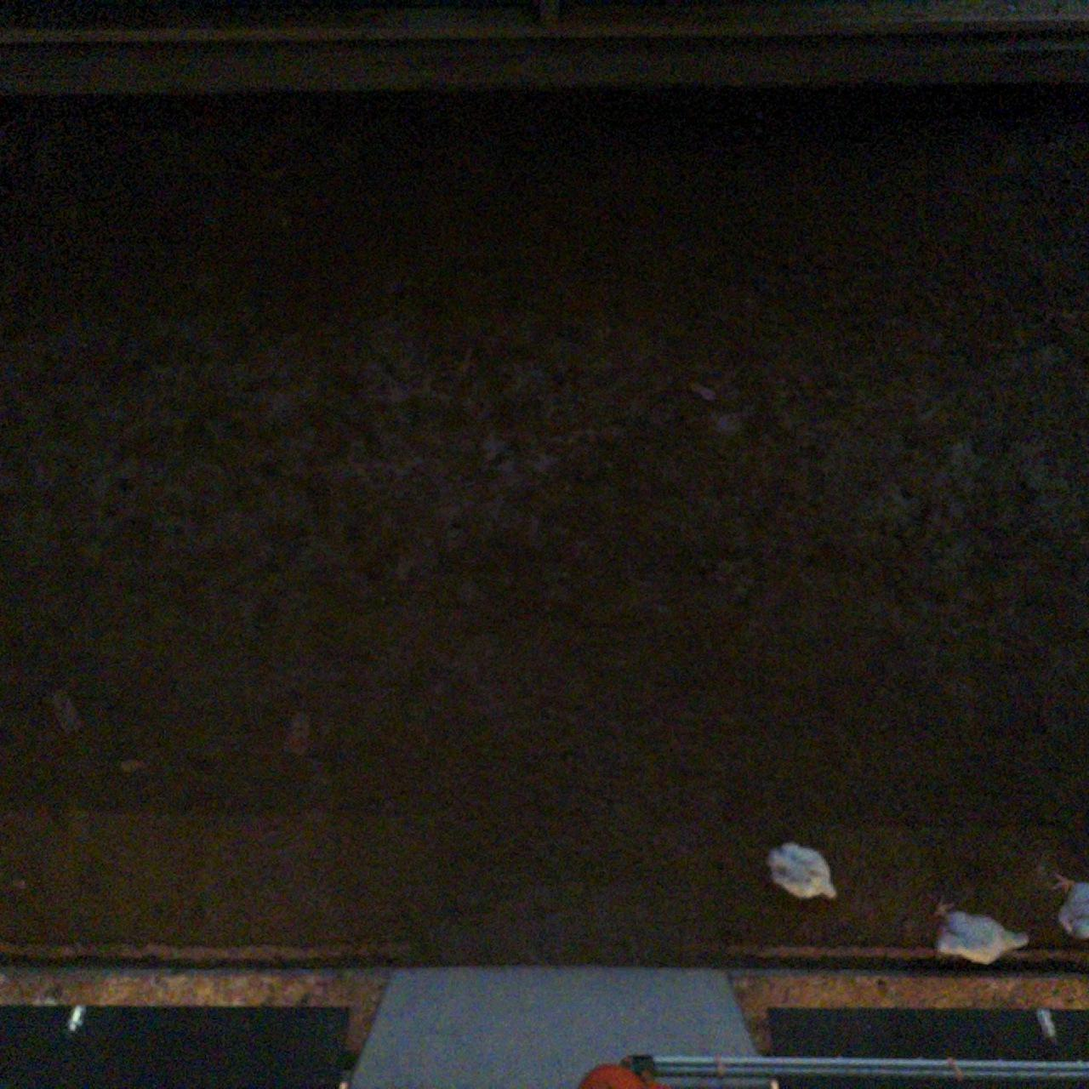chicken: (924, 894, 1033, 975), (759, 831, 844, 912), (1045, 867, 1089, 945)
